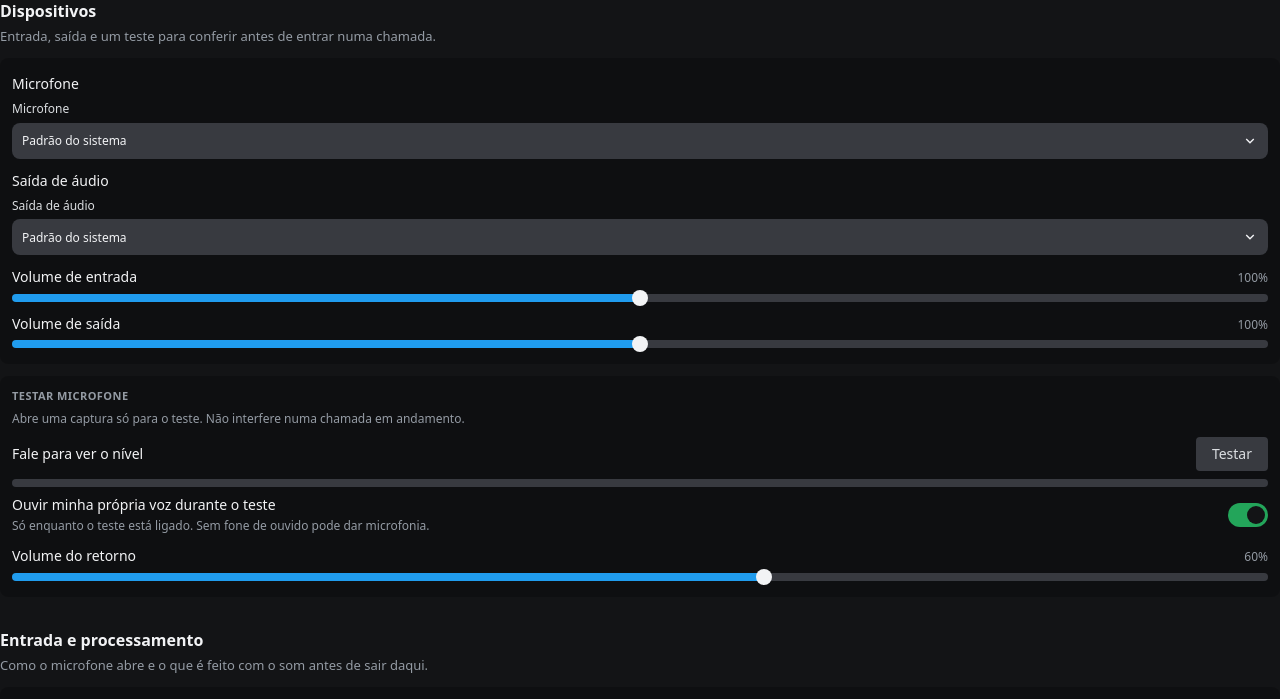
Scenario: VoiceVideoSettings › exibe erro no teste de microfone quando falhar por falta de permissao ou contexto
The width and height of the screenshot is (1280, 699).
Click the button "Testar": {"x": 1232, "y": 454} [1196,437,1268,471]
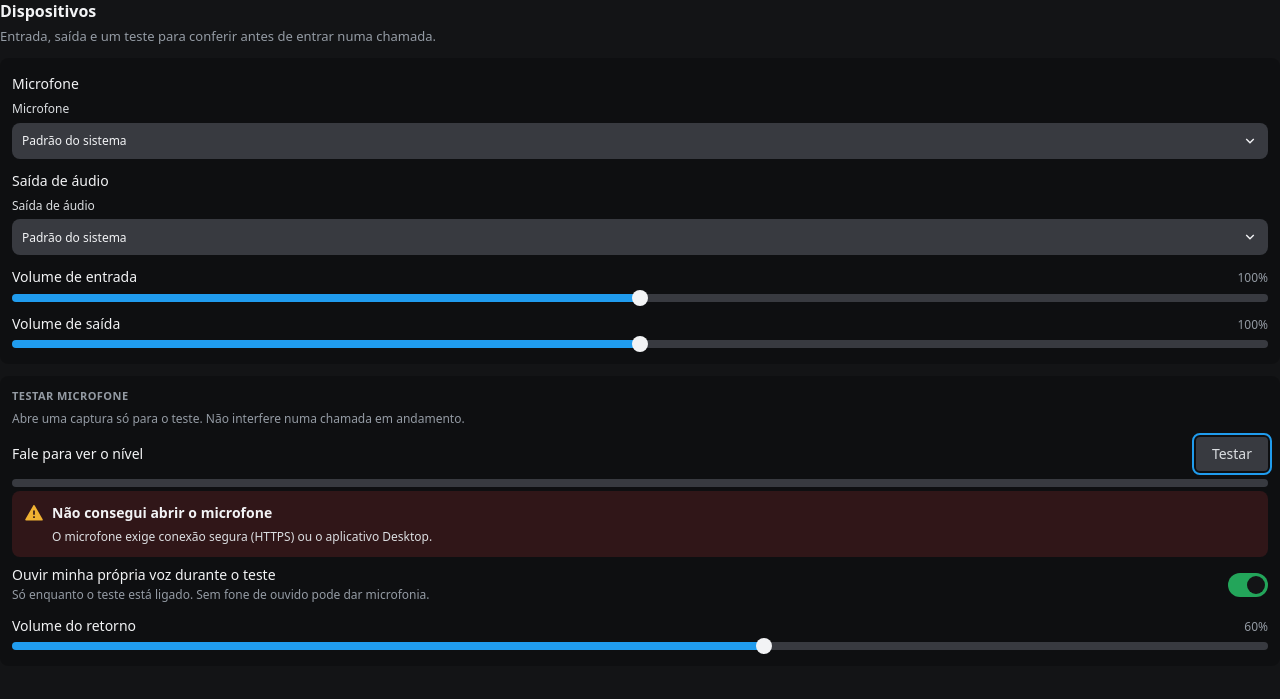
Check: the text "O microfone exige conexão segura (HTTPS) ou o aplicativo Desktop." is shown, box [52,528,432,545]
